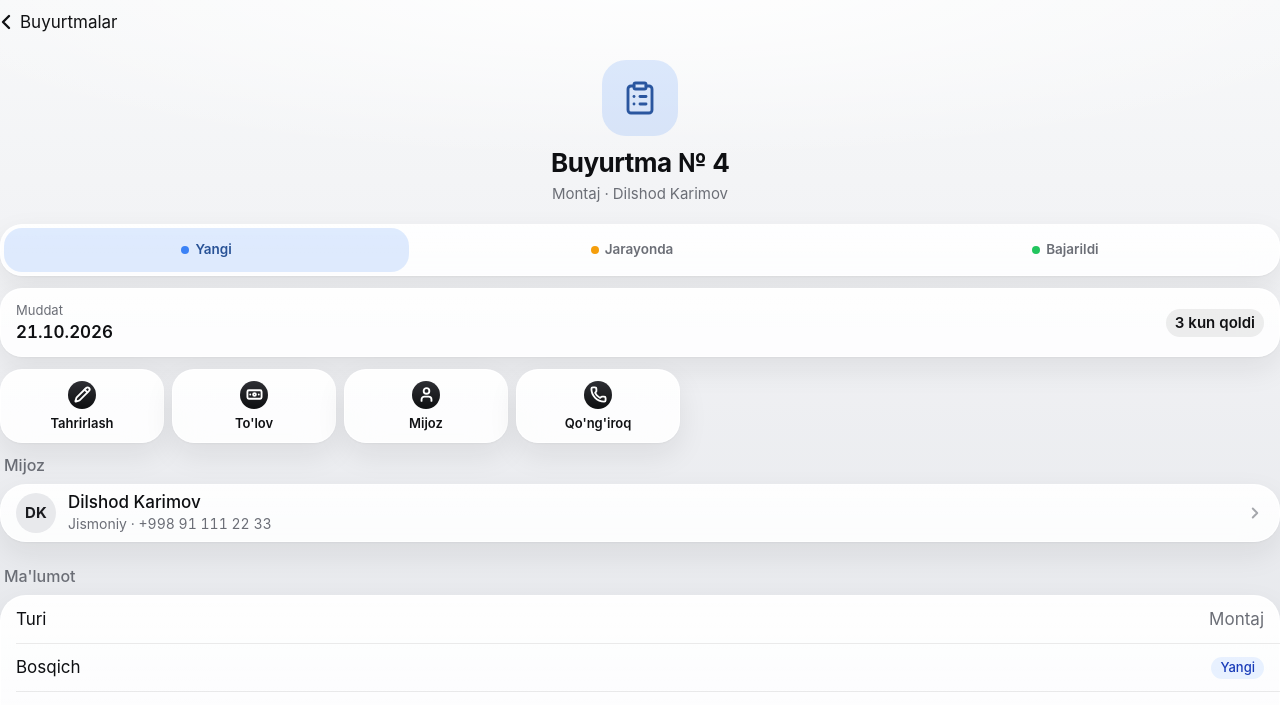
Test case: the dialog opens with the order as it is every time
Click the button "Tahrirlash" at [82, 406], box [0, 369, 164, 443]
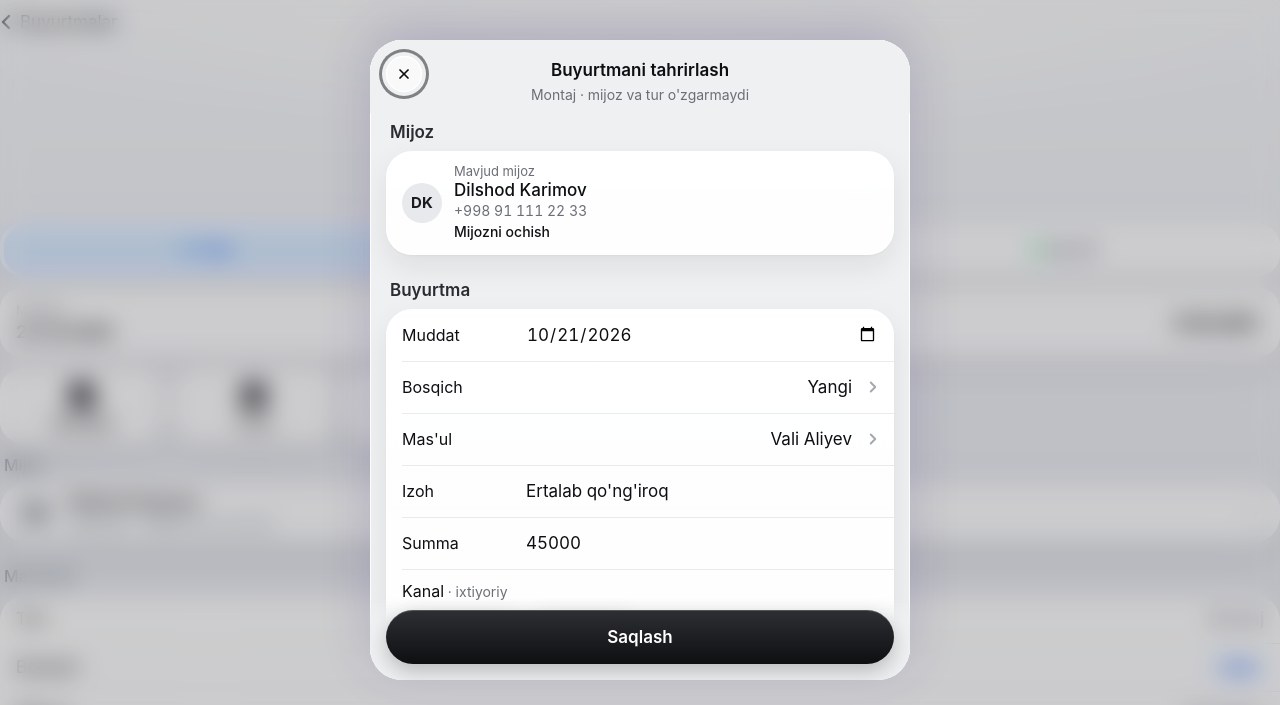
Type " yarim" into the field labelled "Izoh" at [702, 491], box [526, 469, 878, 513]
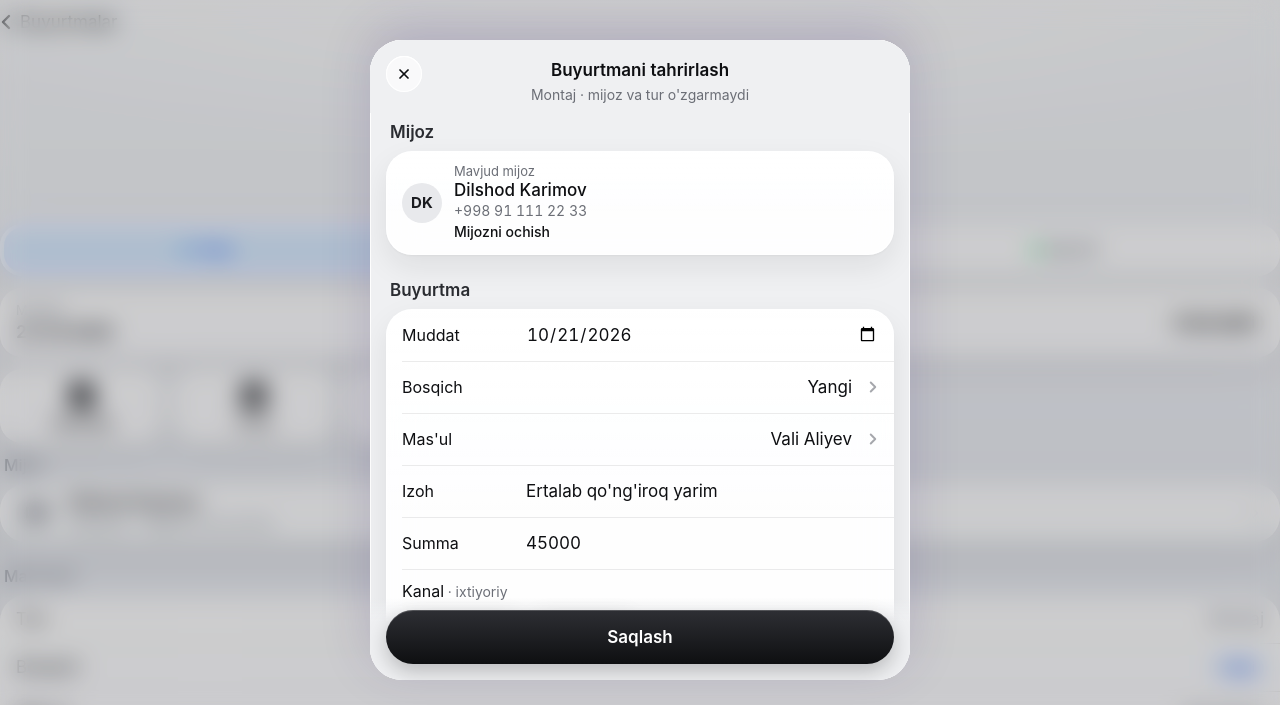
Press Escape
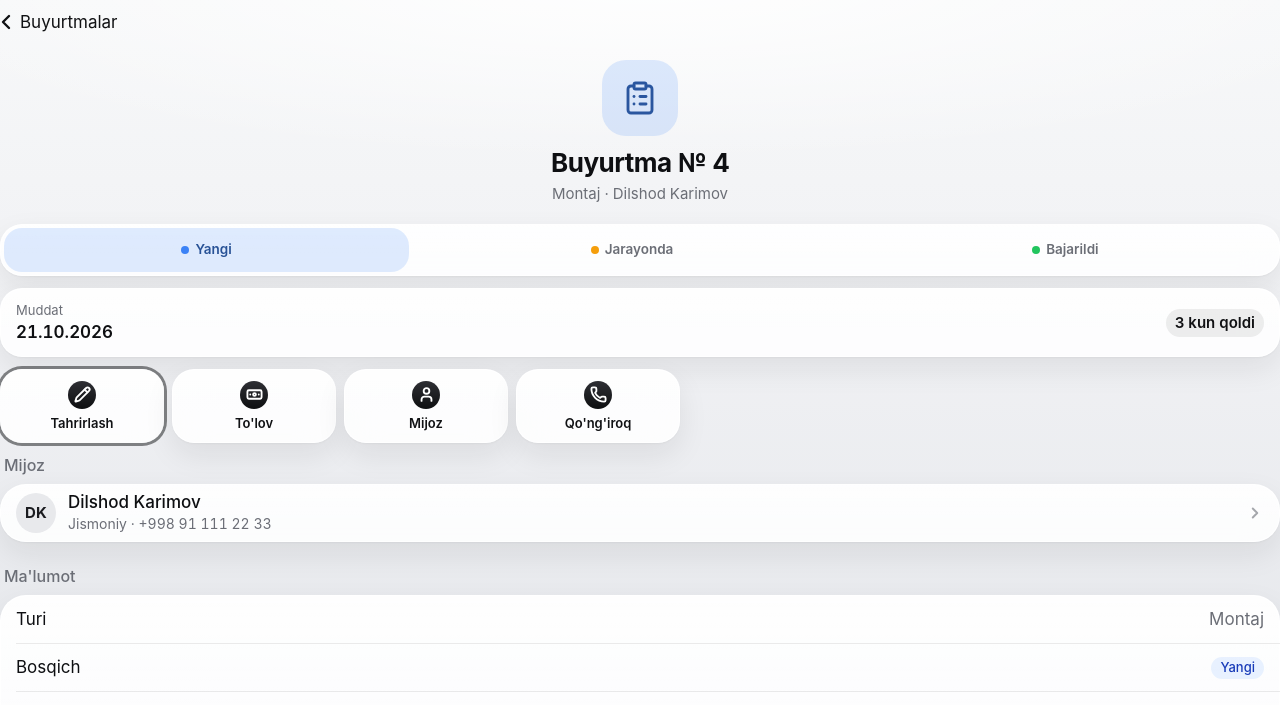
Expected: the dialog is gone
Click the button "Tahrirlash" at [82, 406], box [0, 369, 164, 443]
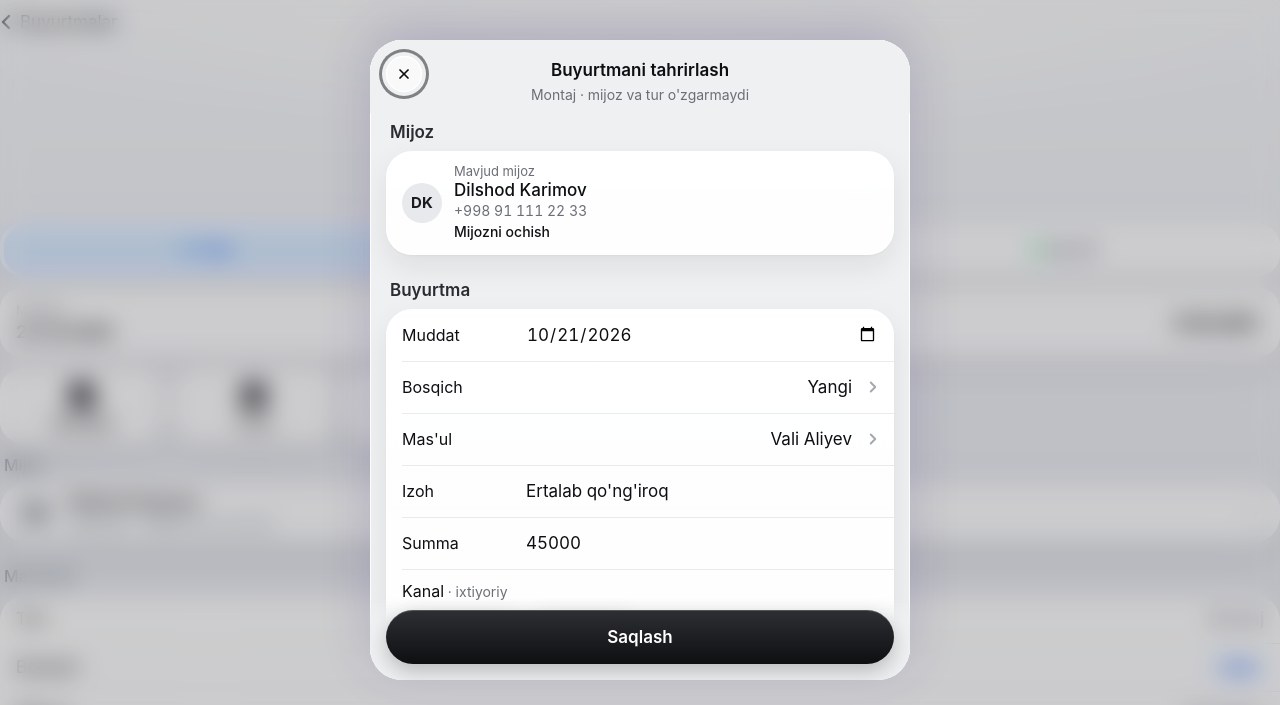
Expected: the field labelled "Izoh" holds "Ertalab qo'ng'iroq", [526, 469, 878, 513]
